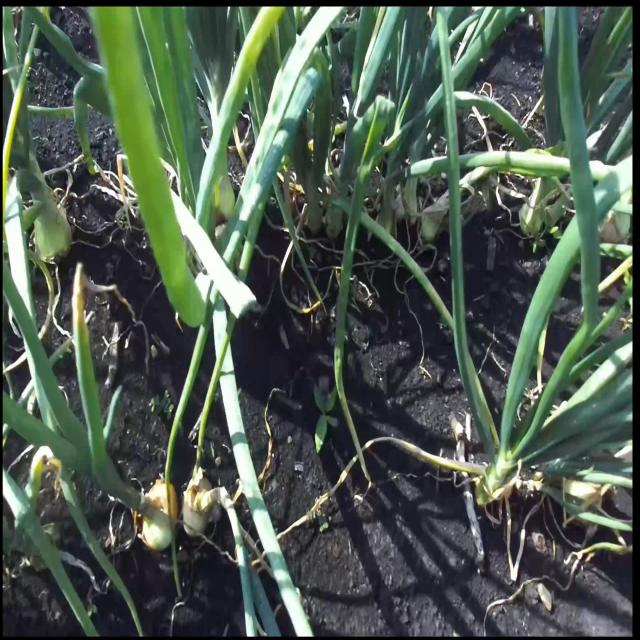onion: (138, 480, 178, 552), (35, 200, 68, 260)
